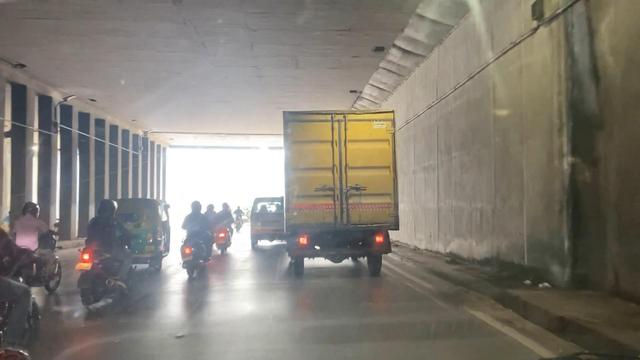HMV: (286, 108, 394, 267)
LMV: (76, 190, 130, 318), (179, 200, 210, 272), (214, 203, 241, 254), (256, 198, 283, 248)
